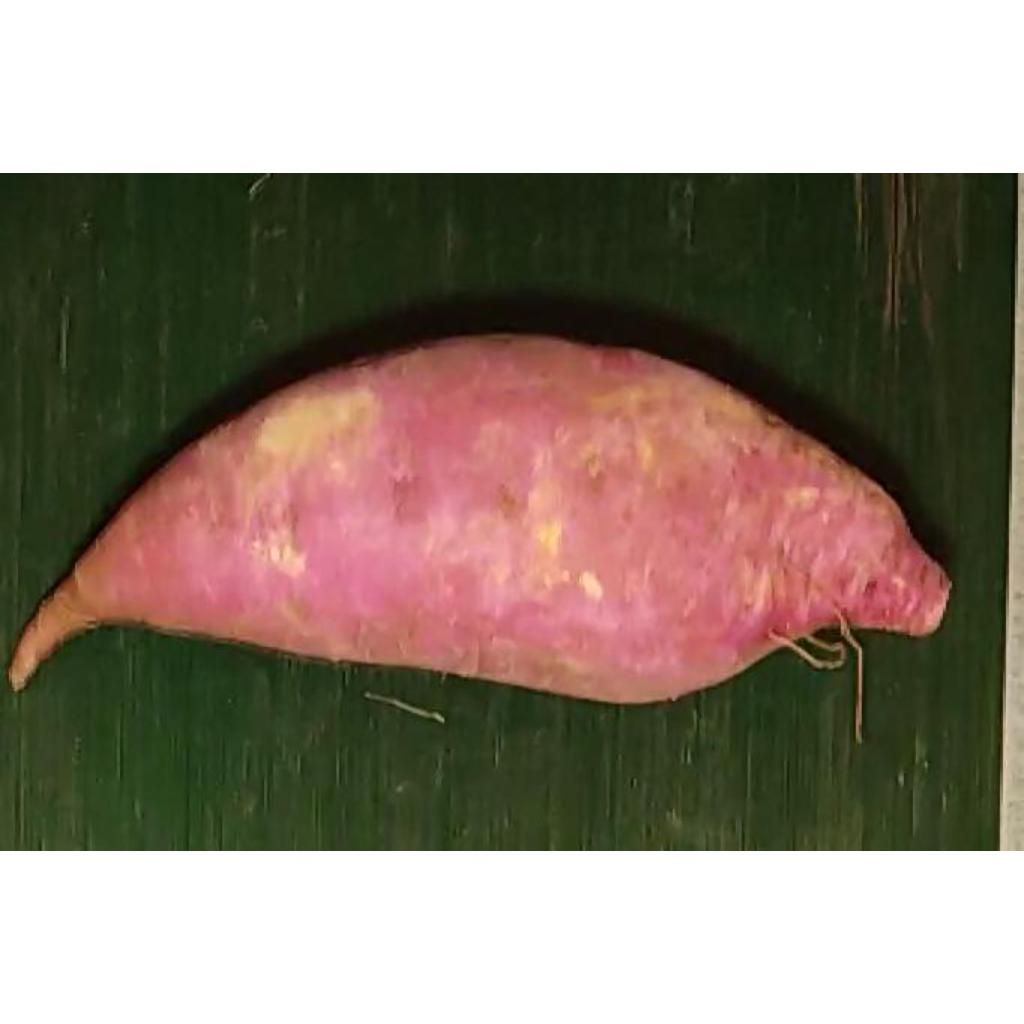Sweet Potato: (11, 335, 955, 708)
